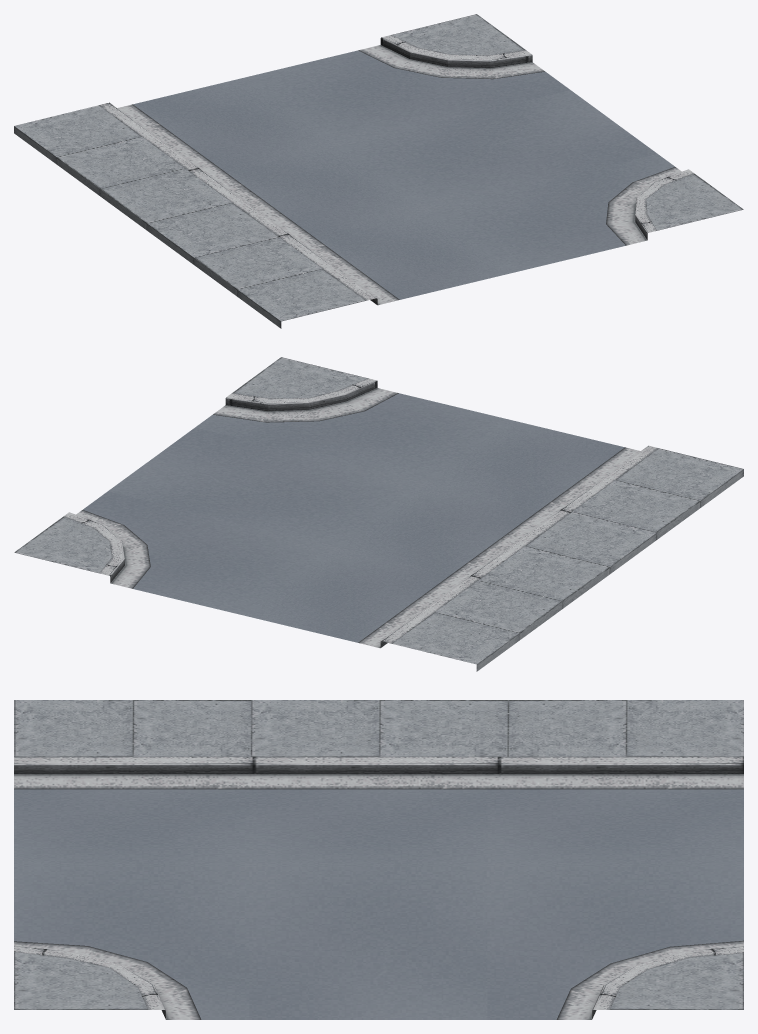
Rendered from Road T Junction.fbx.
3 views of the same model, one above another, from view 1: azimuth 30°, elevation 25°; view 2: azimuth 150°, elevation 25°; view 3: azimuth 270°, elevation 25° (orthographic). The views are drawn at different scales.
Visible parts, largest first — view 1: Road T Junction; view 2: Road T Junction; view 3: Road T Junction.
Boxes of the visible parts, <box> form: Road T Junction: <box>14,14,743,328</box>; Road T Junction: <box>14,357,743,671</box>; Road T Junction: <box>14,700,743,1019</box>.
Bounding box in the file's own units: 600 × 10.37 × 600.
